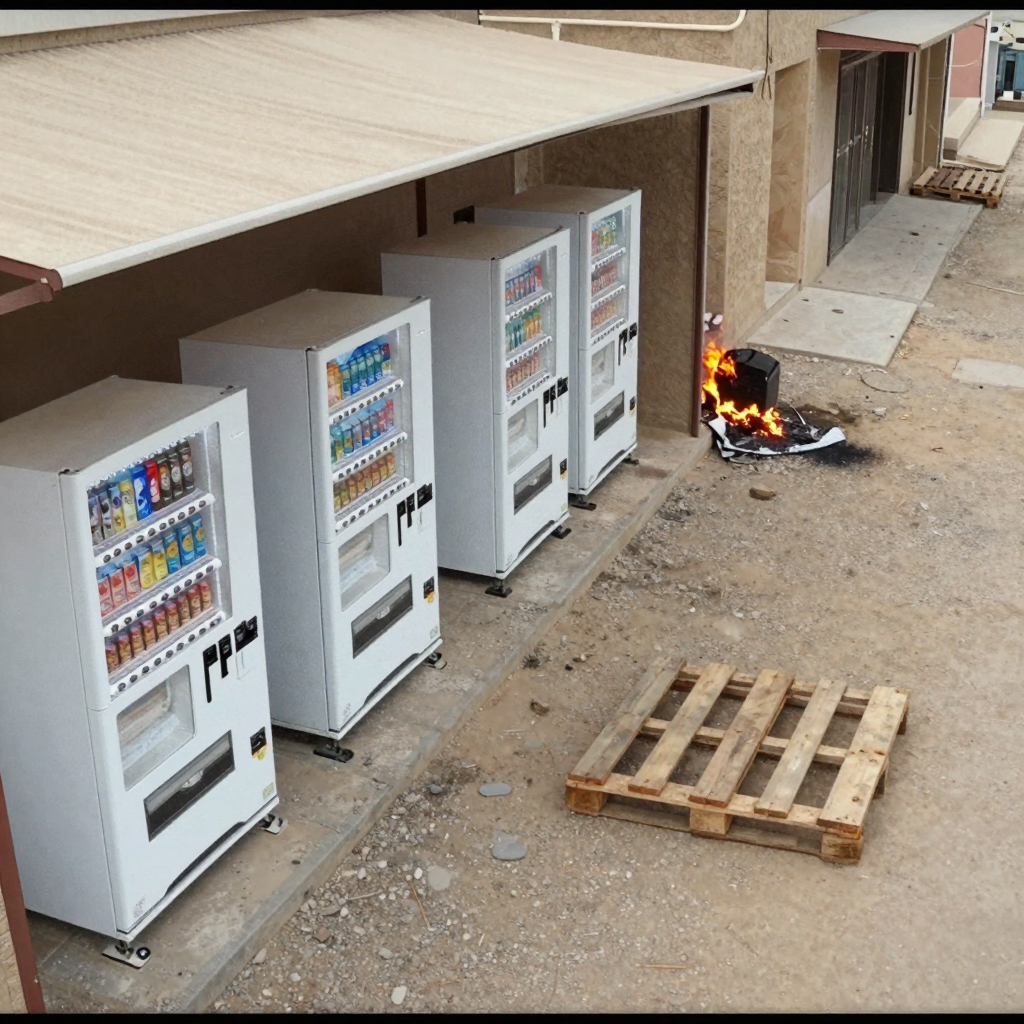Arson: (705, 345, 786, 438)
